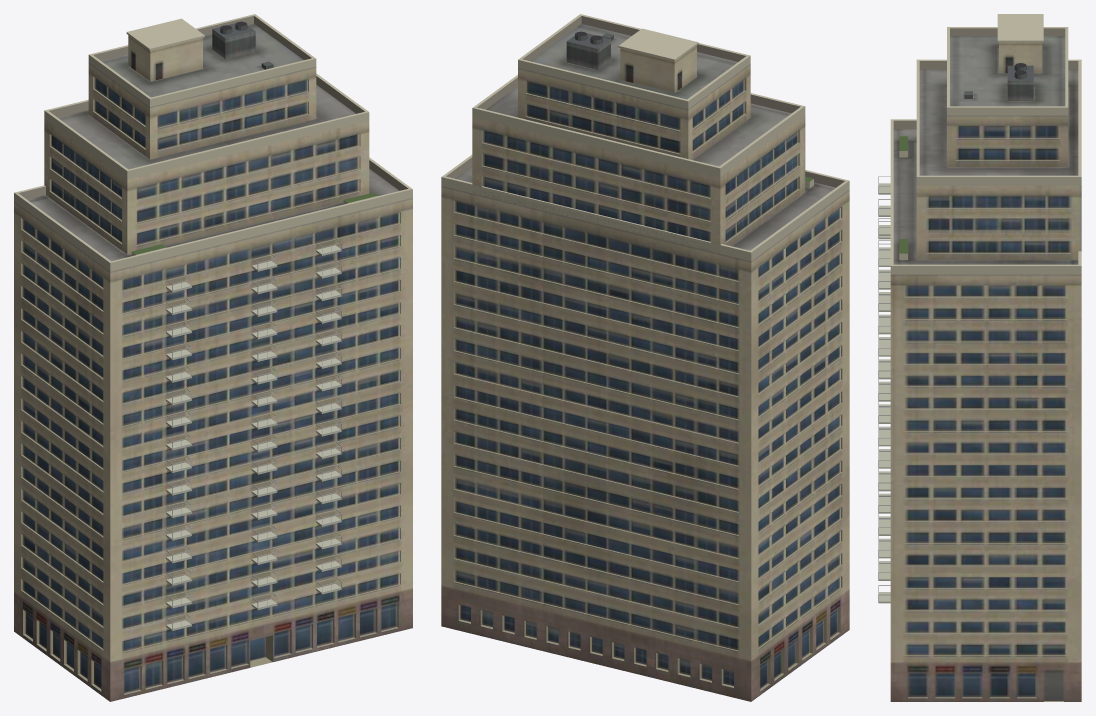
Rendered from nyc_whitebrick_b.glb.
3 renders of one model, left to right at view 1: azimuth 30°, elevation 25°; view 2: azimuth 150°, elevation 25°; view 3: azimuth 270°, elevation 25°, orthographic. The views are drawn at different scales.
Parts seen in each view (by area): view 1: nyc_whitebrick_b; view 2: nyc_whitebrick_b; view 3: nyc_whitebrick_b.
Part boxes in pixels (x1,y1,x2,y2): nyc_whitebrick_b: [14, 14, 412, 701]; nyc_whitebrick_b: [441, 14, 849, 701]; nyc_whitebrick_b: [878, 14, 1081, 701].
Size of the model in its own units: 40 by 74.62 by 23.4.
1 material, 1 textured.
